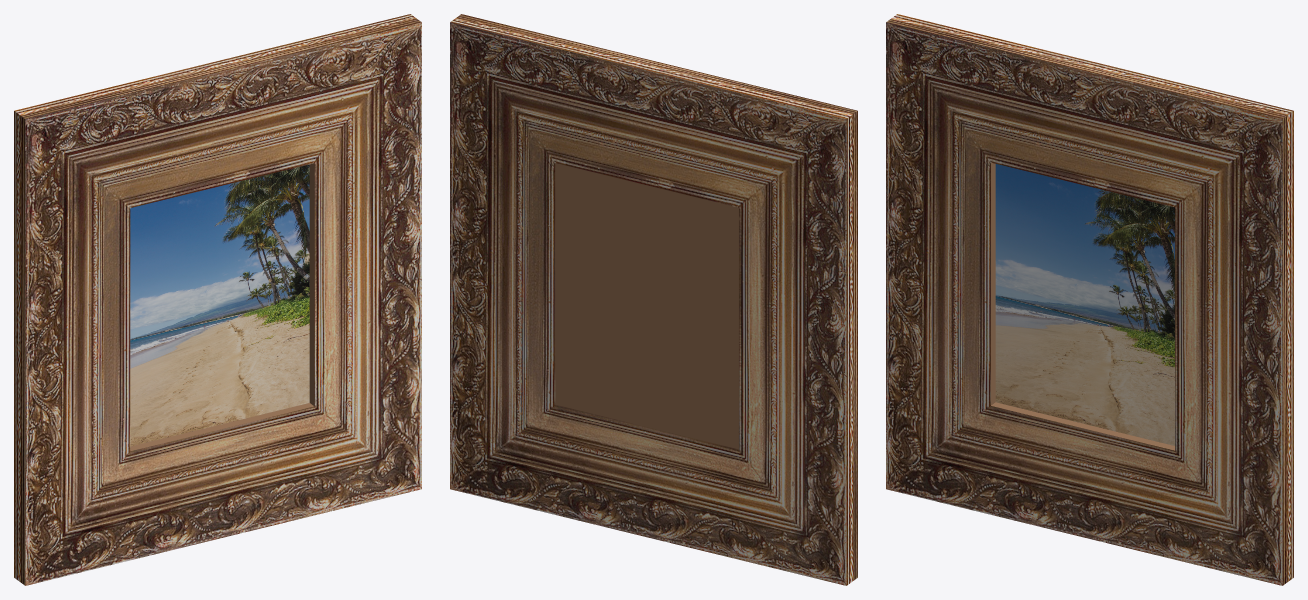
The model's file is Frame_01.FBX.
3 renders of one model, left to right at view 1: azimuth 30°, elevation 25°; view 2: azimuth 150°, elevation 25°; view 3: azimuth 330°, elevation 25°, orthographic.
Parts seen in each view (by area): view 1: Frame_01; view 2: Frame_01; view 3: Frame_01.
Boxes of the visible parts, x1,y1,x2,y2 form: Frame_01: (14,14,421,585); Frame_01: (450,14,857,585); Frame_01: (886,14,1293,585).
Bounding box in the file's own units: 720 × 36 × 810.
